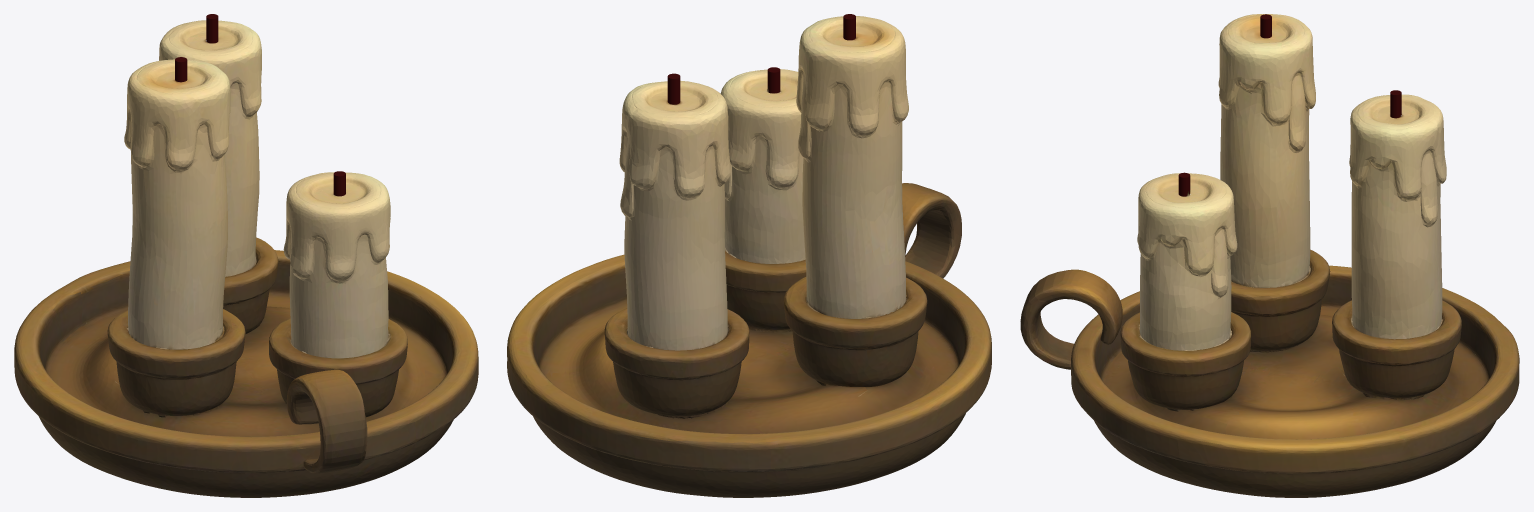
The model's file is candle_11.glb.
The picture shows the model from 3 angles, left to right: view 1: azimuth 30°, elevation 25°; view 2: azimuth 150°, elevation 25°; view 3: azimuth 270°, elevation 25°; orthographic projection. The views are drawn at different scales.
Parts seen in each view (by area): view 1: tripo_node_d95a4b3e-83ba-4daa-b1c1-5d32e5e5211e.001; view 2: tripo_node_d95a4b3e-83ba-4daa-b1c1-5d32e5e5211e.001; view 3: tripo_node_d95a4b3e-83ba-4daa-b1c1-5d32e5e5211e.001.
Part boxes in pixels (box(x1,y1,x2,y2)): tripo_node_d95a4b3e-83ba-4daa-b1c1-5d32e5e5211e.001: box(14, 20, 478, 497); tripo_node_d95a4b3e-83ba-4daa-b1c1-5d32e5e5211e.001: box(507, 16, 991, 497); tripo_node_d95a4b3e-83ba-4daa-b1c1-5d32e5e5211e.001: box(1020, 14, 1519, 497).
Bounding box in the file's own units: 0.8607 × 0.7923 × 0.9797.
4 materials, 1 textured.
